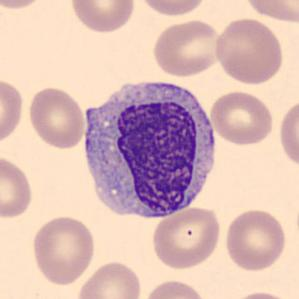Monocyte: (76, 72, 221, 226)
RBC: (212, 15, 286, 86), (29, 212, 97, 287), (149, 205, 223, 270), (150, 18, 224, 78), (222, 206, 288, 272), (208, 88, 276, 147), (26, 85, 87, 150), (74, 258, 144, 299), (67, 0, 137, 35), (0, 153, 36, 220), (0, 75, 26, 147), (277, 96, 298, 171), (140, 277, 208, 299), (135, 0, 210, 18), (242, 0, 298, 24), (229, 289, 294, 299), (0, 0, 49, 11)
